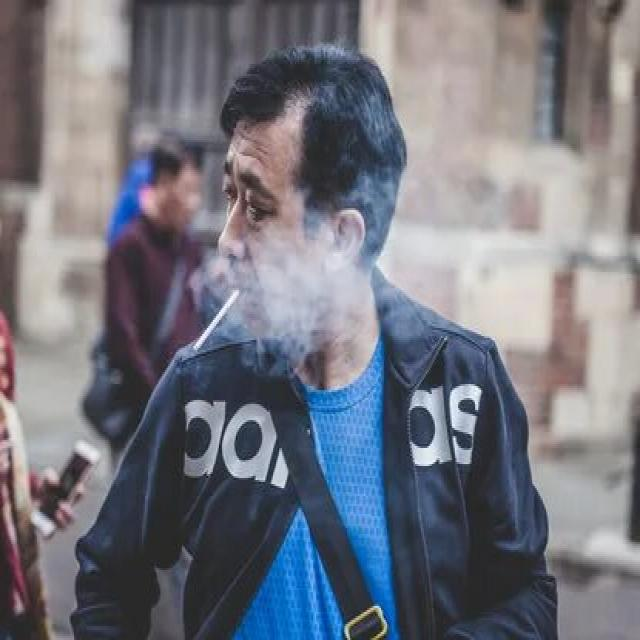smoke: (190, 282, 245, 360)
